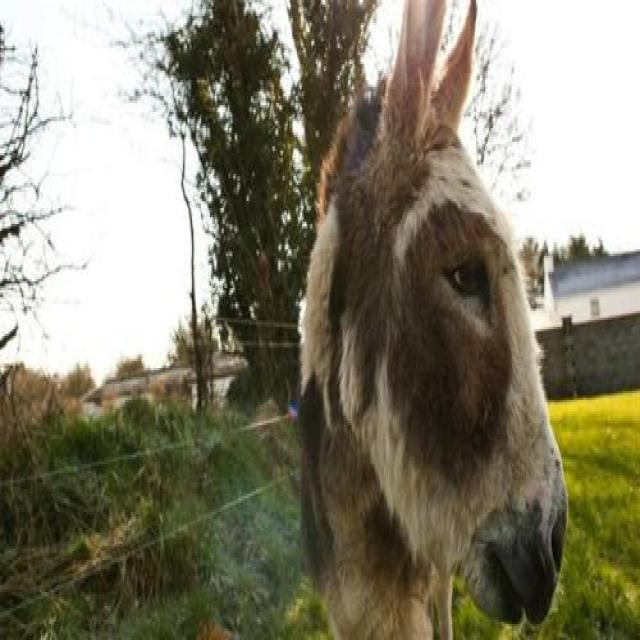Donkey: (300, 0, 567, 640)
